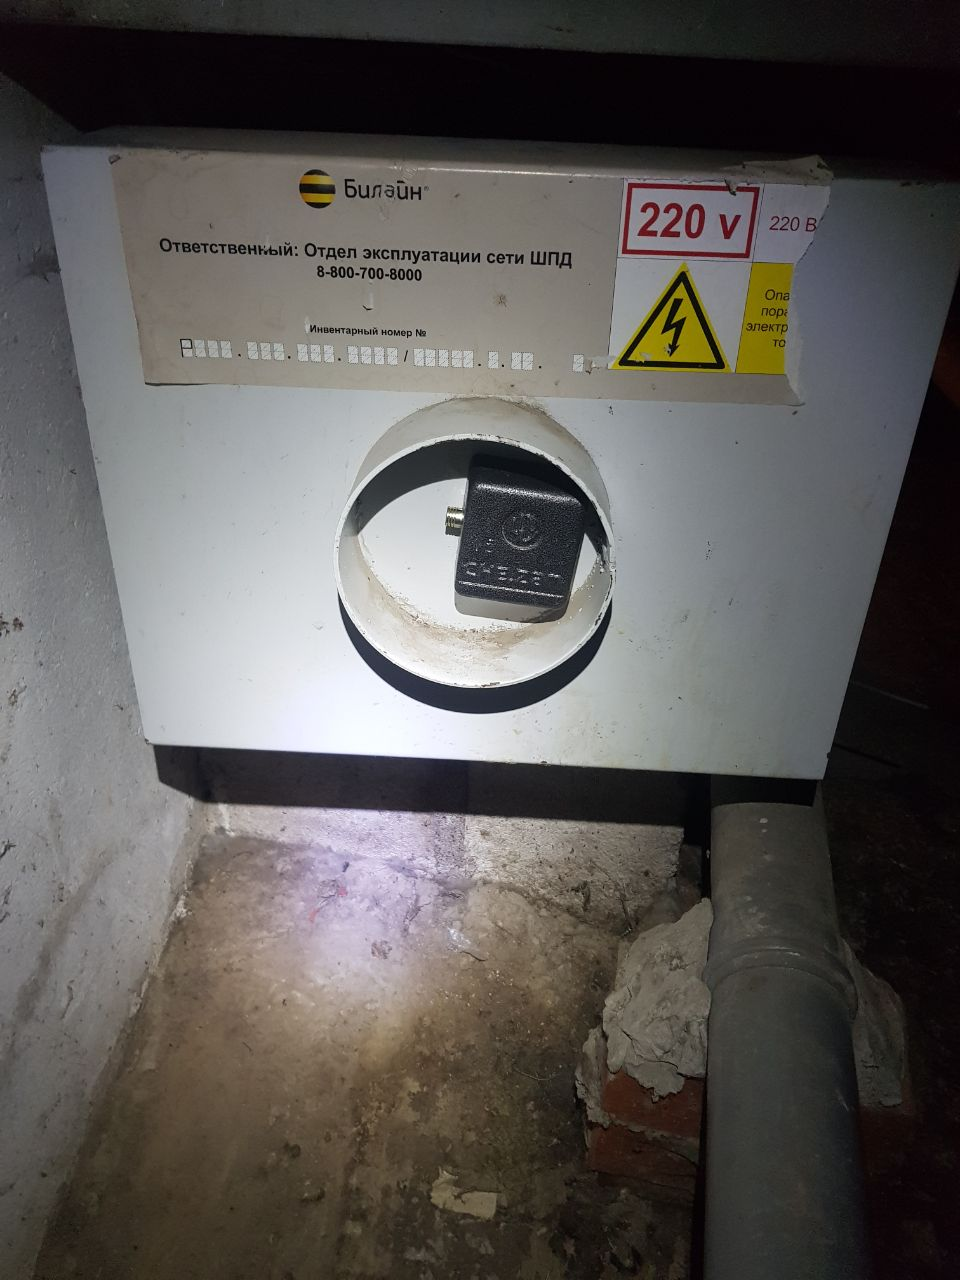shta-3: (29, 139, 954, 788)
